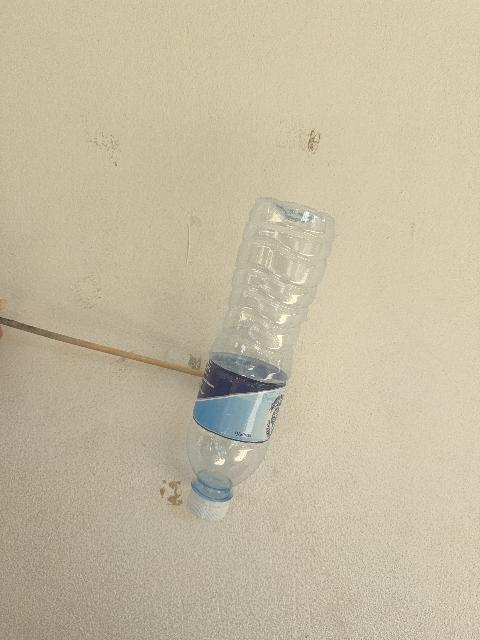bottle: (186, 198, 333, 520)
